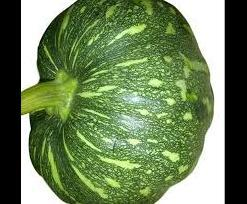turnip: (20, 0, 214, 203)
